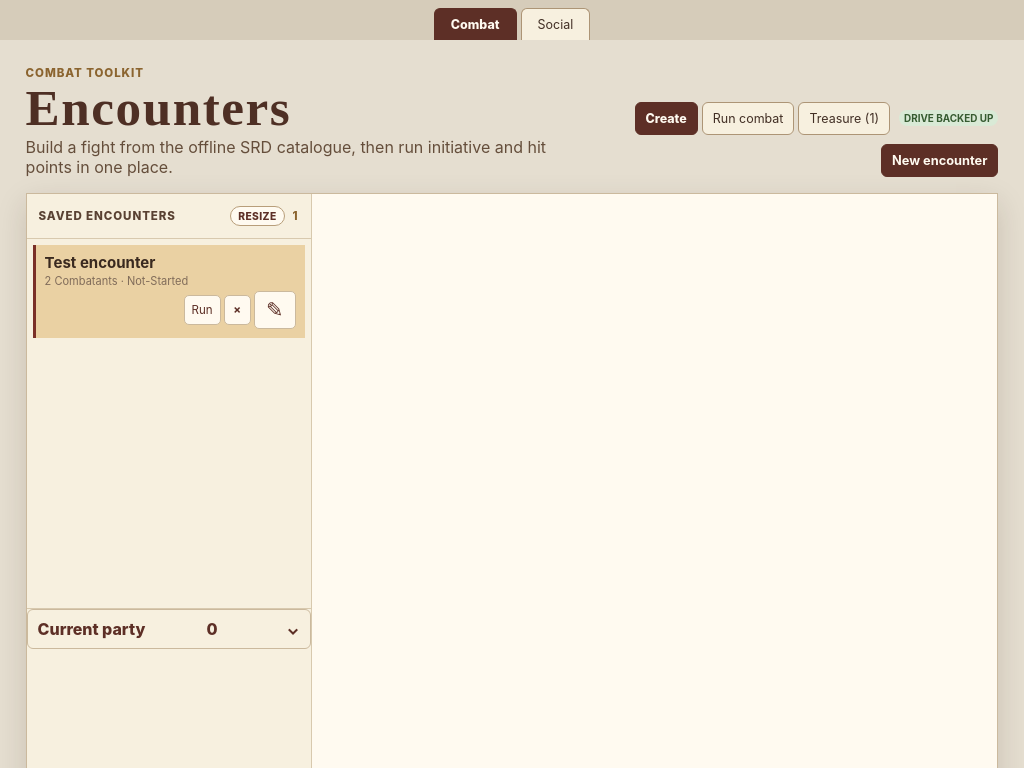
Test: EncounterPanel monster browser › collects monster equipment in the automatic Treasure list
Step 1. Click the tab "Treasure (1)" → (844, 118), box [798,102,890,135]
(page scrolled)
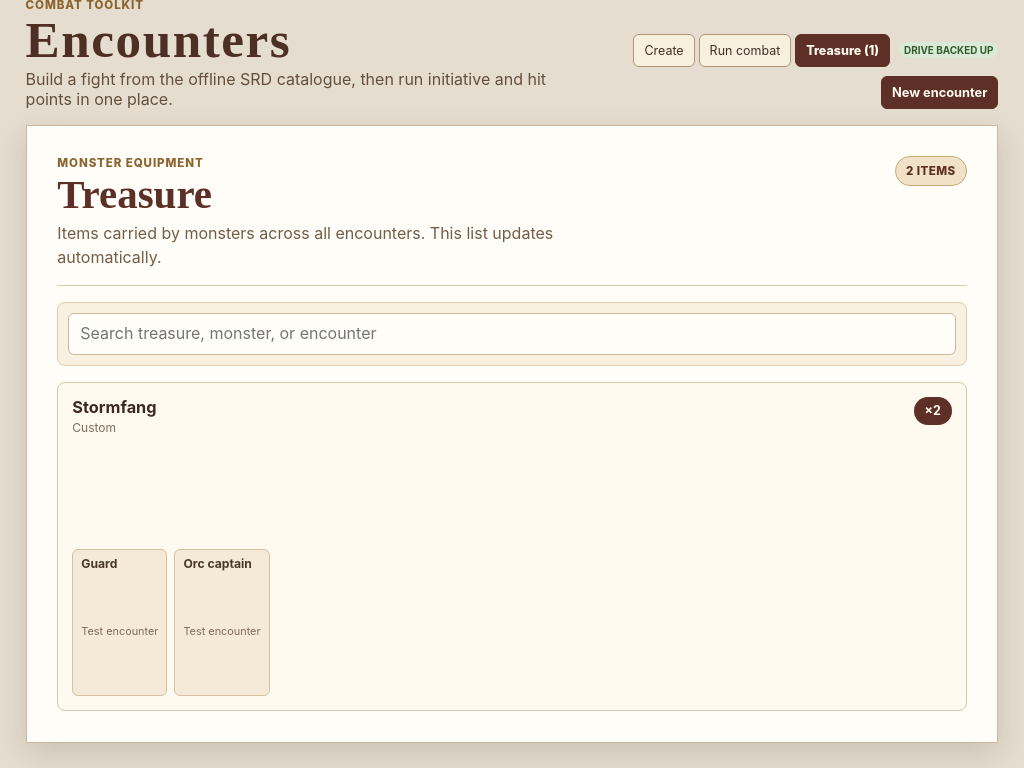
Expected: the list with class "treasure-list" shows "Stormfang", [72,397,157,417]
Expected: the list with class "treasure-list" shows "×2", [57,382,967,711]
Expected: the list with class "treasure-list" shows "Guard", [81,556,117,571]
